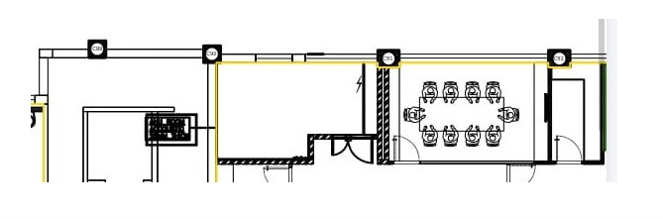Seat: (421, 79, 439, 104), (442, 79, 460, 104), (464, 79, 482, 104), (485, 79, 503, 104), (497, 106, 522, 124), (402, 105, 427, 123), (486, 125, 504, 150), (464, 124, 482, 149), (442, 124, 460, 149), (420, 125, 438, 150)
